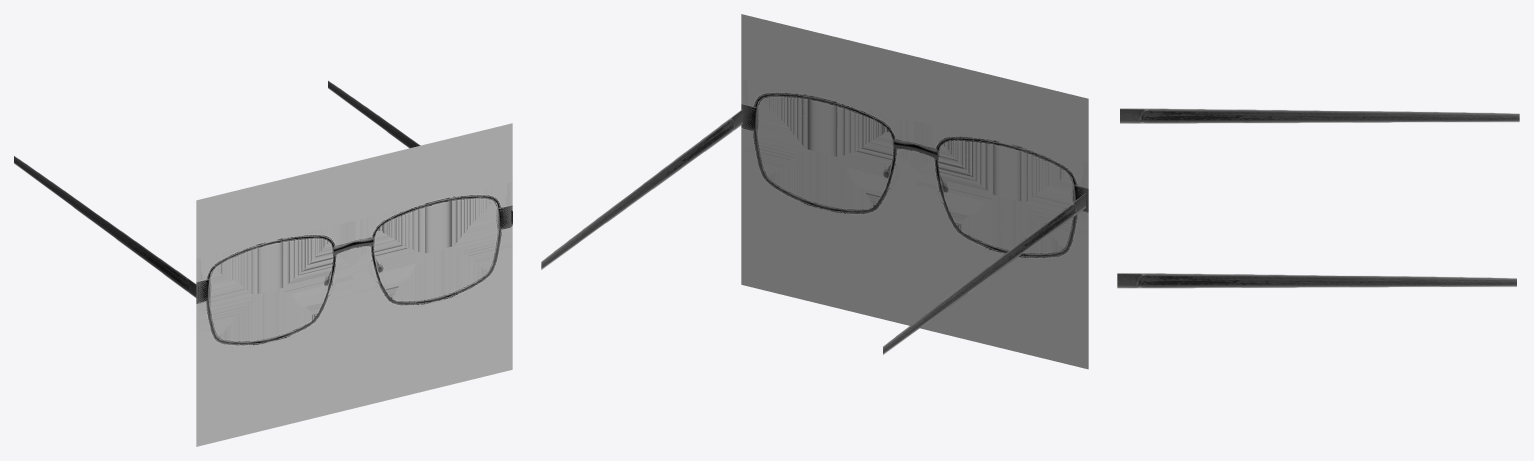
Rendered from trendspotter-supreme-106_f4.glb.
3 views of the same model, side by side, from view 1: azimuth 30°, elevation 25°; view 2: azimuth 150°, elevation 25°; view 3: azimuth 270°, elevation 25° (orthographic). The views are drawn at different scales.
Parts seen in each view (by area): view 1: Front, Right, Left; view 2: Front, Right, Left; view 3: Left, Right.
Boxes of the visible parts, x1,y1,x2,y2 form: Front: (196,123,512,446); Right: (14,156,198,299); Left: (328,80,512,224); Front: (741,14,1088,369); Right: (883,193,1085,354); Left: (541,109,742,269); Left: (1117,273,1516,288); Right: (1120,108,1519,123).
Bounding box in the file's own units: 146 × 109 × 149.
4 materials, 4 textured.
